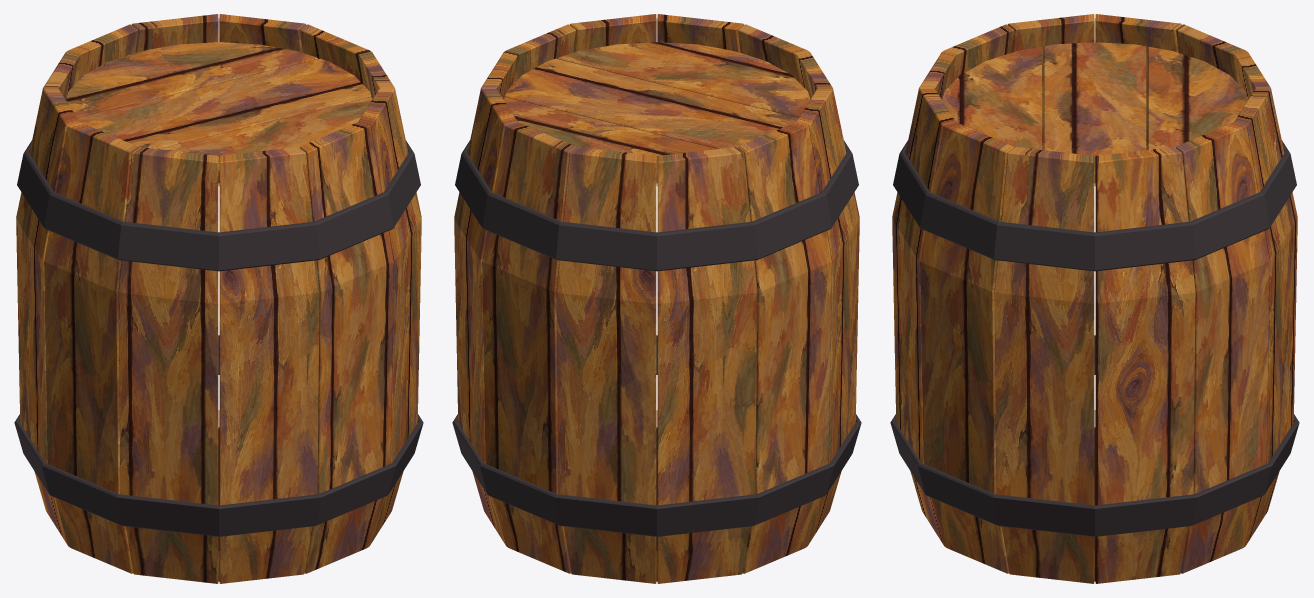
The model's file is aether_barrel_shape_oil.glb.
3 views of the same model, side by side, from view 1: azimuth 30°, elevation 25°; view 2: azimuth 150°, elevation 25°; view 3: azimuth 270°, elevation 25° (orthographic).
Parts seen in each view (by area): view 1: aether_barrel_shape_oil; view 2: aether_barrel_shape_oil; view 3: aether_barrel_shape_oil.
Part boxes in pixels (x1,y1,x2,y2): aether_barrel_shape_oil: (14,14,423,583); aether_barrel_shape_oil: (452,14,861,583); aether_barrel_shape_oil: (890,14,1299,583).
Bounding box in the file's own units: 0.9109 × 1.04 × 0.9109.
Materials: 2 (1 with a texture image).
